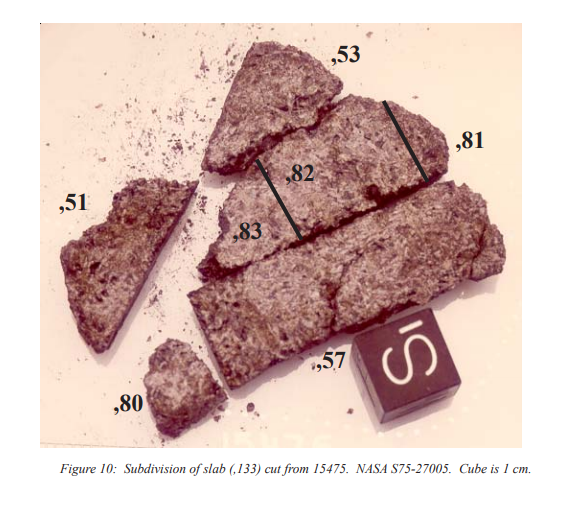Basalt: (188, 48, 505, 293), (54, 164, 220, 418)
